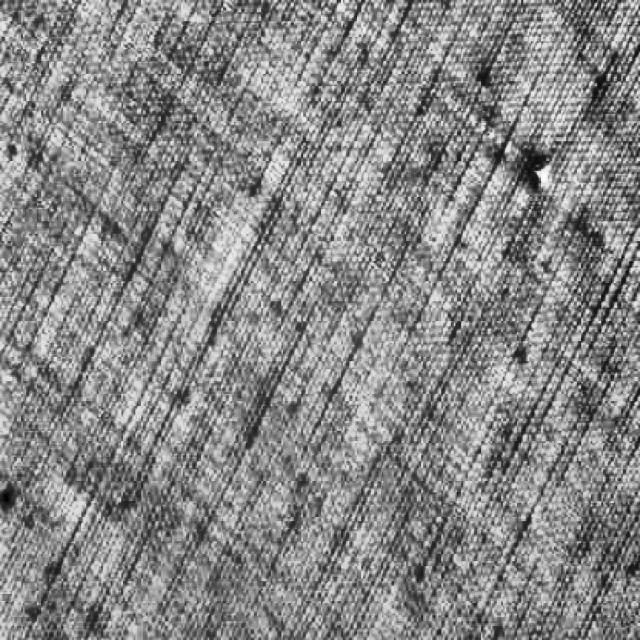hole: (525, 149, 557, 194)
